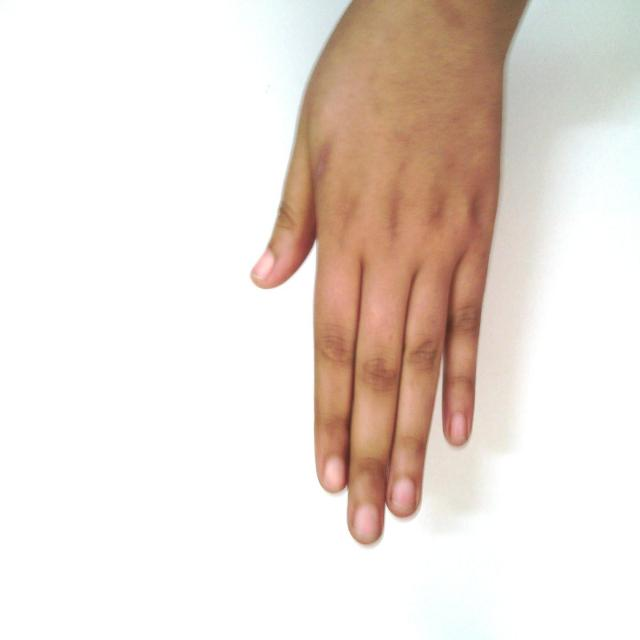others: (228, 0, 538, 552)
